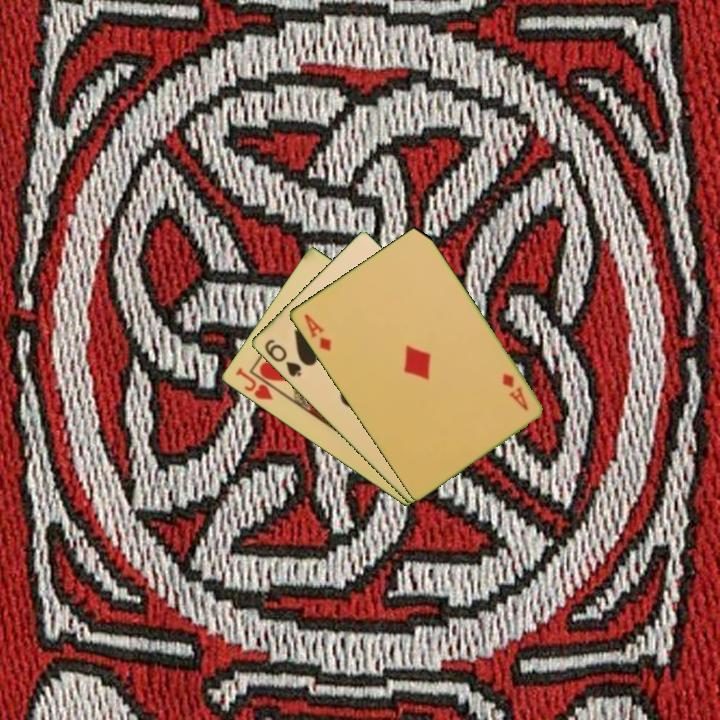6s: (261, 335, 304, 380)
Ad: (300, 310, 334, 354), (498, 369, 531, 414)
Jh: (232, 364, 276, 403)
